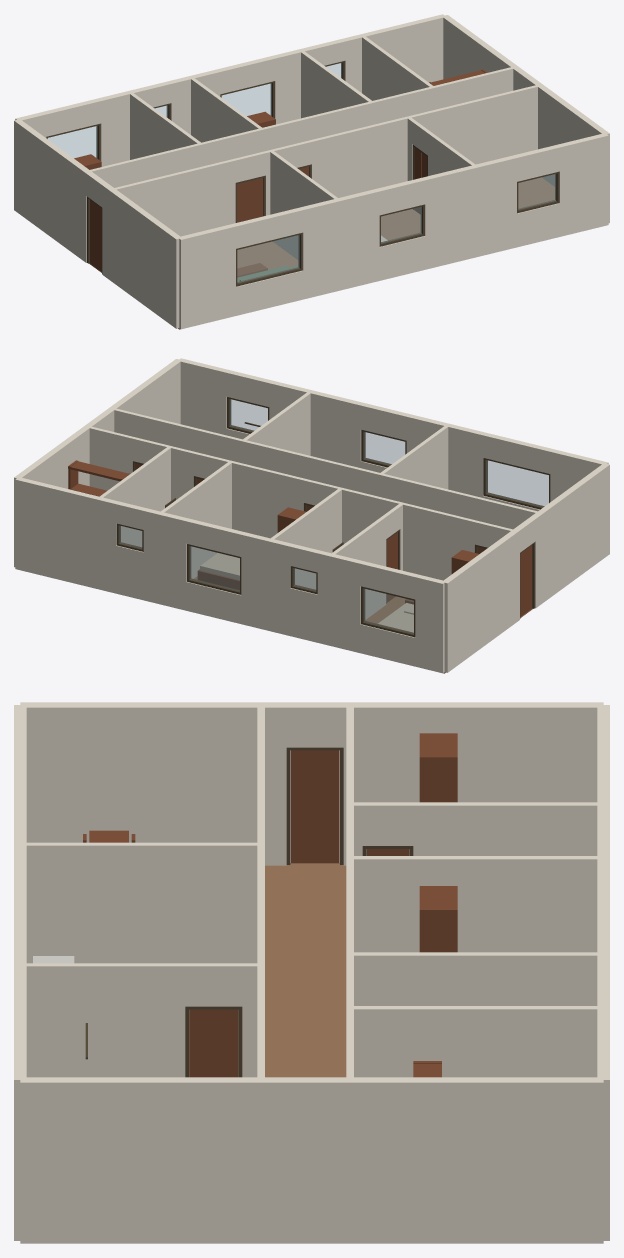
The model's file is approved-scene.glb.
3 views of the same model, one above another, from view 1: azimuth 30°, elevation 25°; view 2: azimuth 150°, elevation 25°; view 3: azimuth 270°, elevation 25° (orthographic). The views are drawn at different scales.
Parts seen in each view (by area): view 1: wall-public-south-solid-end, wall-exterior-south-solid-before-window-service, wall-exterior-west-solid-end, wall-exterior-south-solid-before-window-kitchen, wall-exterior-west-solid-before-door-primary-entry, wall-public-south-solid-before-door-circulation-living, wall-exterior-east-solid-end, wall-exterior-south-solid-before-window-living, wall-exterior-south-solid-end, wall-exterior-north-solid-before-window-common-bath, wall-public-north-solid-before-door-circulation-bedroom-2, wall-living-kitchen-solid-end (+40 smaller); view 2: wall-exterior-north-solid-before-window-common-bath, wall-exterior-west-solid-before-door-primary-entry, wall-exterior-west-solid-end, wall-public-north-solid-before-door-circulation-bedroom-2, wall-public-south-solid-end, wall-exterior-east-solid-end, wall-exterior-north-solid-before-window-ensuite, wall-exterior-south-solid-before-window-service, wall-public-north-solid-before-door-circulation-common-bath, wall-exterior-north-solid-before-window-bedroom-2, wall-exterior-north-solid-before-window-master, wall-exterior-south-solid-before-window-kitchen (+42 smaller); view 3: wall-exterior-east-solid-end, wall-exterior-west-solid-end, wall-living-kitchen-solid-end, wall-exterior-west-solid-before-door-primary-entry, wall-ensuite-bedroom-2-solid-end, wall-kitchen-service-solid-before-door-kitchen-service, floor-room-public-circulation, wall-common-bath-store-solid-end, wall-bedroom-2-common-bath-solid-end, wall-master-ensuite-solid-end, door-primary-entry-door-leaf-left, asset-pl-1-6-wardrobe-900-carcass (+15 smaller).
Part boxes in pixels (x1,y1,x2,y2): wall-public-south-solid-end: [310, 85, 538, 197]; wall-exterior-south-solid-before-window-service: [422, 155, 516, 269]; wall-exterior-west-solid-end: [102, 184, 181, 328]; wall-exterior-south-solid-before-window-kitchen: [300, 189, 379, 299]; wall-exterior-west-solid-before-door-primary-entry: [14, 119, 91, 262]; wall-public-south-solid-before-door-circulation-living: [114, 159, 235, 236]; wall-exterior-east-solid-end: [442, 15, 609, 223]; wall-exterior-south-solid-before-window-living: [179, 224, 235, 329]; wall-exterior-south-solid-end: [557, 133, 608, 236]; wall-exterior-north-solid-before-window-common-bath: [342, 14, 445, 92]; wall-public-north-solid-before-door-circulation-bedroom-2: [126, 126, 271, 184]; wall-living-kitchen-solid-end: [270, 151, 337, 259]; wall-exterior-north-solid-before-window-common-bath: [15, 477, 119, 593]; wall-exterior-west-solid-before-door-primary-entry: [443, 529, 519, 672]; wall-exterior-west-solid-end: [530, 464, 609, 608]; wall-public-north-solid-before-door-circulation-bedroom-2: [331, 485, 476, 580]; wall-public-south-solid-end: [113, 408, 341, 486]; wall-exterior-east-solid-end: [14, 359, 180, 567]; wall-exterior-north-solid-before-window-ensuite: [241, 532, 293, 635]; wall-exterior-south-solid-before-window-service: [269, 380, 363, 467]; wall-public-north-solid-before-door-circulation-common-bath: [218, 458, 304, 538]; wall-exterior-north-solid-before-window-bedroom-2: [143, 508, 189, 610]; wall-exterior-north-solid-before-window-master: [317, 551, 363, 652]; wall-exterior-south-solid-before-window-kitchen: [406, 414, 485, 497]; wall-exterior-east-solid-end: [20, 1077, 603, 1243]; wall-exterior-west-solid-end: [20, 702, 286, 865]; wall-living-kitchen-solid-end: [21, 842, 261, 963]; wall-exterior-west-solid-before-door-primary-entry: [343, 702, 603, 865]; wall-ensuite-bedroom-2-solid-end: [350, 856, 603, 952]; wall-kitchen-service-solid-before-door-kitchen-service: [21, 963, 185, 1077]; floor-room-public-circulation: [265, 863, 346, 1077]; wall-common-bath-store-solid-end: [354, 1006, 603, 1077]; wall-bedroom-2-common-bath-solid-end: [350, 952, 601, 1005]; wall-master-ensuite-solid-end: [413, 802, 603, 855]; door-primary-entry-door-leaf-left: [290, 750, 339, 863]; asset-pl-1-6-wardrobe-900-carcass: [419, 733, 457, 802].
Bounding box in the file's own units: 14.2 × 2.85 × 9.4.
